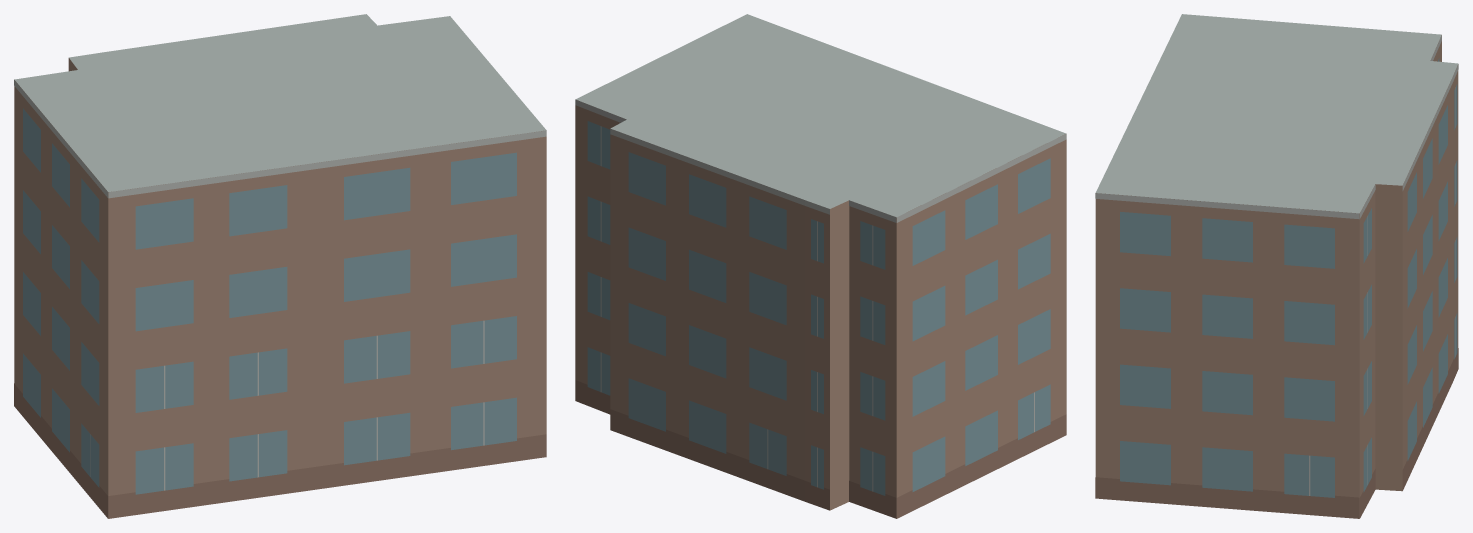
The model's file is survey-upis-32955902.glb.
3 renders of one model, left to right at view 1: azimuth 30°, elevation 25°; view 2: azimuth 150°, elevation 25°; view 3: azimuth 270°, elevation 25°, orthographic. The views are drawn at different scales.
Parts seen in each view (by area): view 1: survey-upis-32955902.tmp; view 2: survey-upis-32955902.tmp; view 3: survey-upis-32955902.tmp.
Part boxes in pixels (left/top/right/bottom): survey-upis-32955902.tmp: left=14, top=14, right=546, bottom=518; survey-upis-32955902.tmp: left=575, top=14, right=1066, bottom=518; survey-upis-32955902.tmp: left=1095, top=14, right=1458, bottom=518.
Size of the model in its own units: 17.93 by 12.8 by 13.79.
